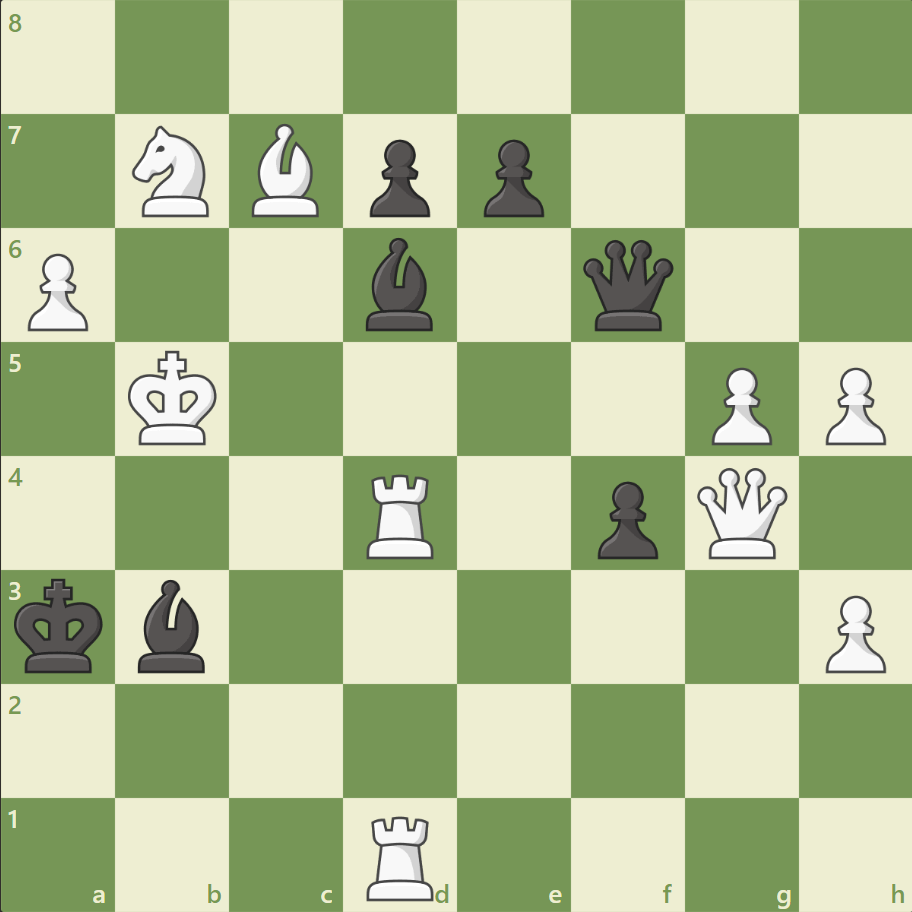B: (244, 120, 328, 222)
K: (124, 344, 224, 452)
N: (124, 121, 222, 223)
P: (20, 246, 95, 337), (701, 359, 776, 450), (815, 359, 889, 450), (815, 586, 889, 677)
Q: (691, 463, 790, 562)
R: (360, 806, 442, 904), (360, 466, 442, 563)
b: (358, 233, 442, 336), (131, 574, 215, 676)
k: (11, 571, 111, 679)
p: (474, 132, 549, 223), (361, 132, 435, 223), (588, 473, 662, 564)
q: (578, 236, 677, 335)
